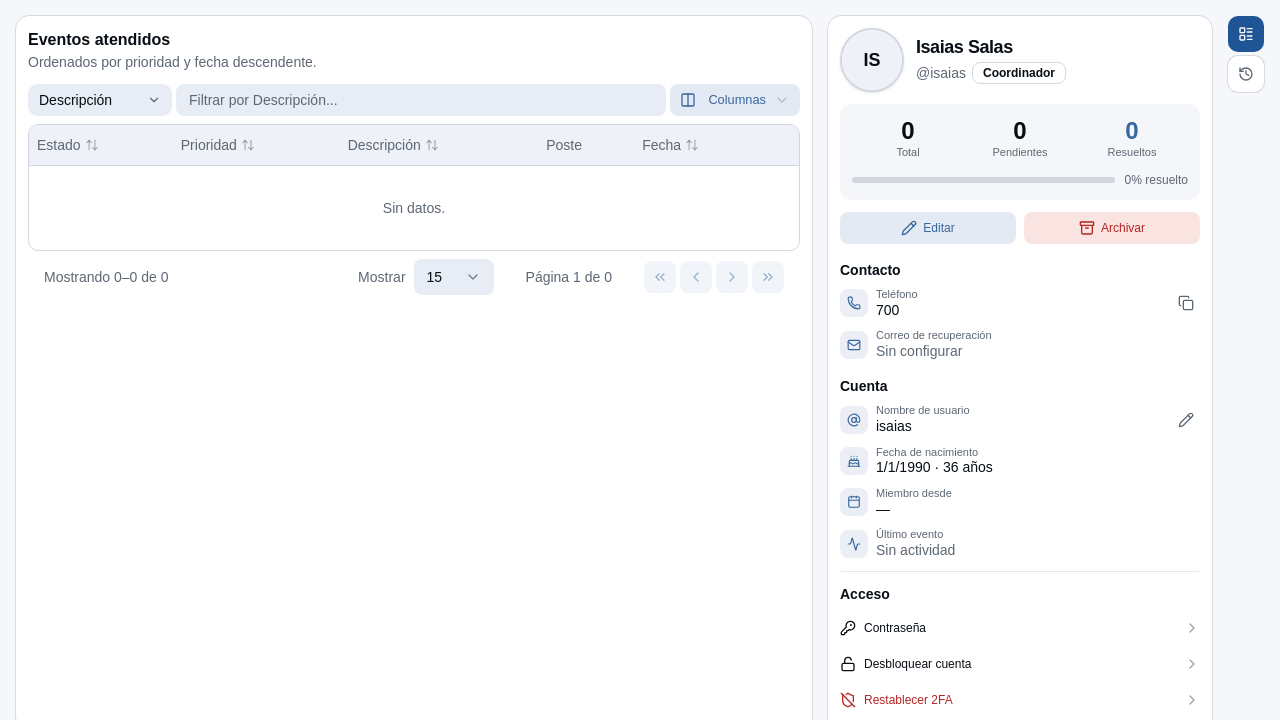
Test: the views of the panel › opens on the account, and the rail moves it to the log
Check: the heading "Isaias Salas" is shown, box [916, 37, 1013, 57]
Click the tab named "Bitácora" at (1246, 74), box [1228, 56, 1264, 92]
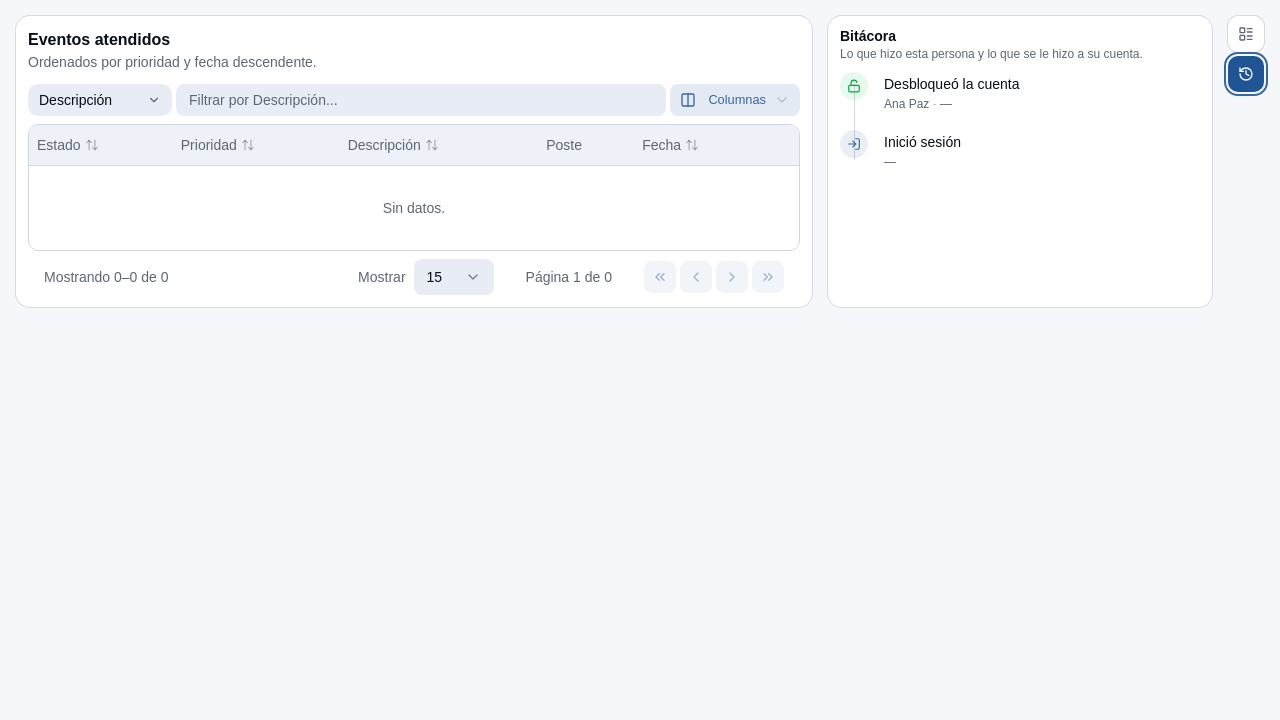
Check: the heading "Isaias Salas" is gone
Check: the text "Inició sesión" is shown, box [884, 132, 961, 152]
Check: the text "Desbloqueó la cuenta" shows "Ana Paz", box [884, 97, 929, 111]
